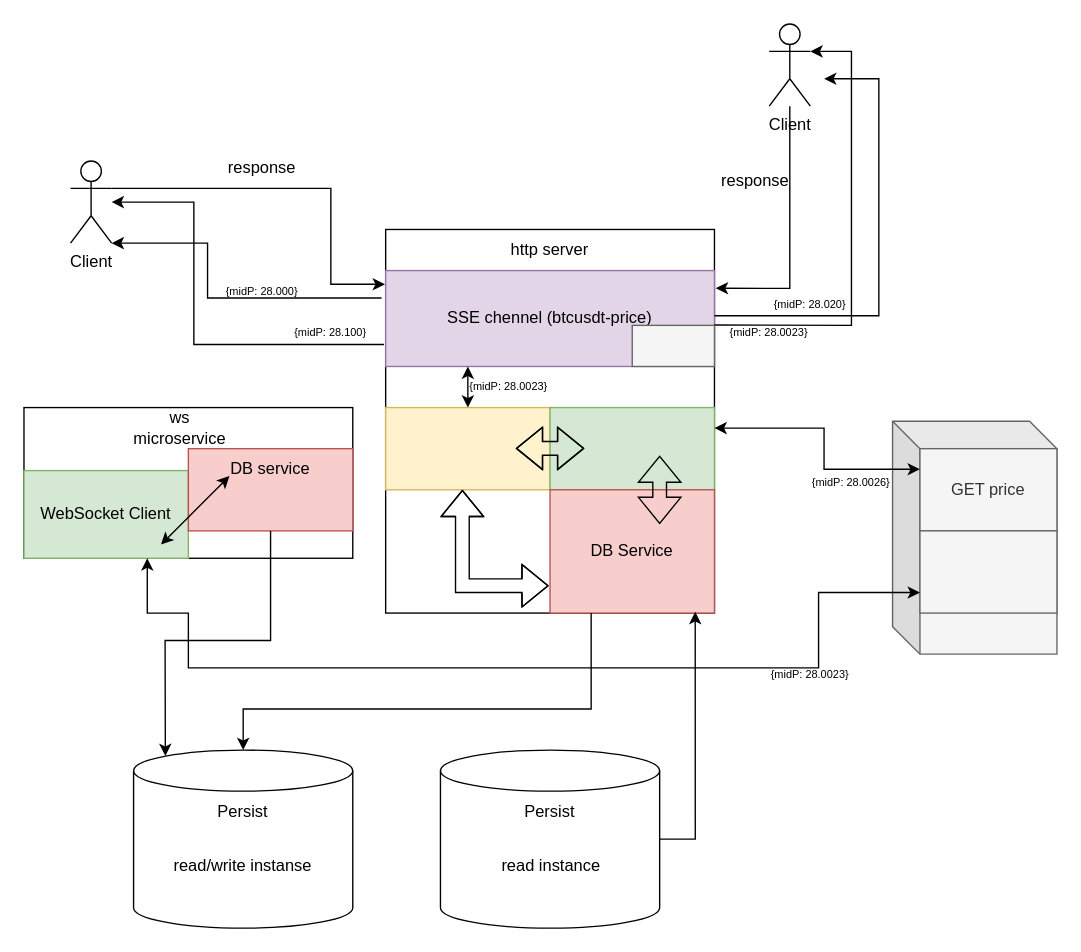
Some shapes in this 1081 by 952 pixel diagram are drawn without their labels. The centre of each missing label's shape, as x and y in pixels:
"n" interval: [672,345]
API Client: [631,448]
socket tiker (1s): [988,571]
SQL/Reddis?: [467,448]
